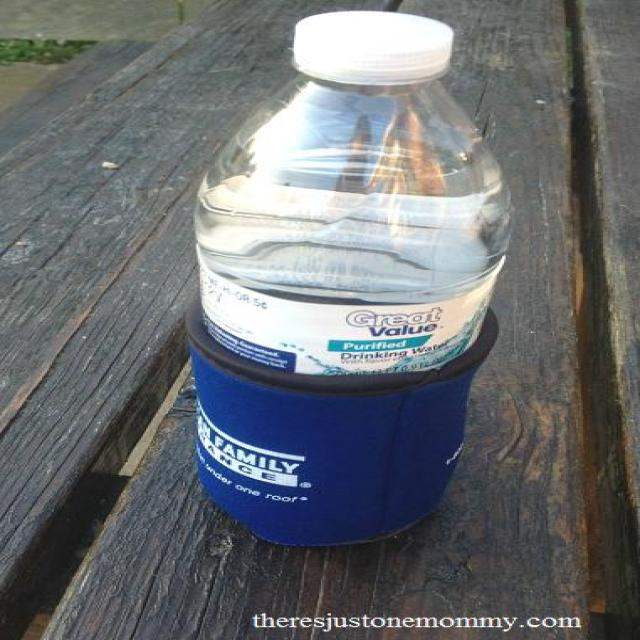bottle: (176, 4, 509, 594)
